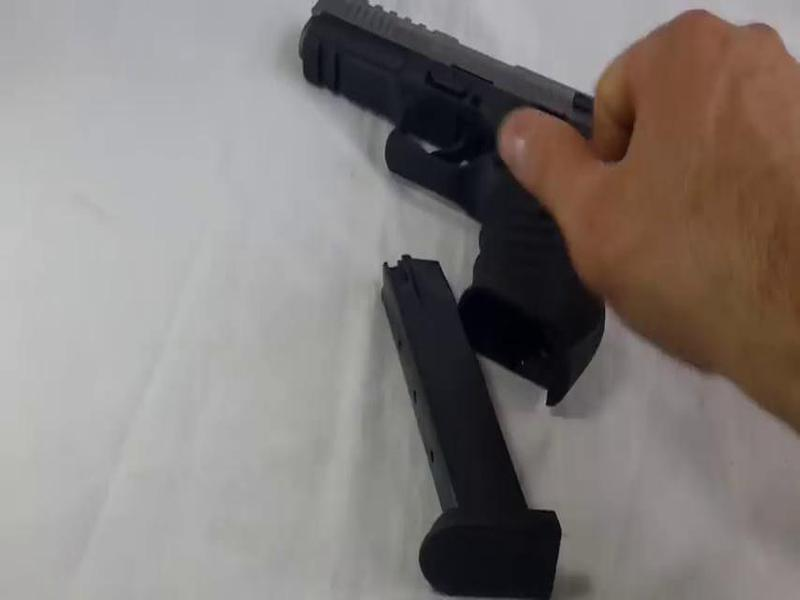Pistola: (278, 7, 662, 398)
